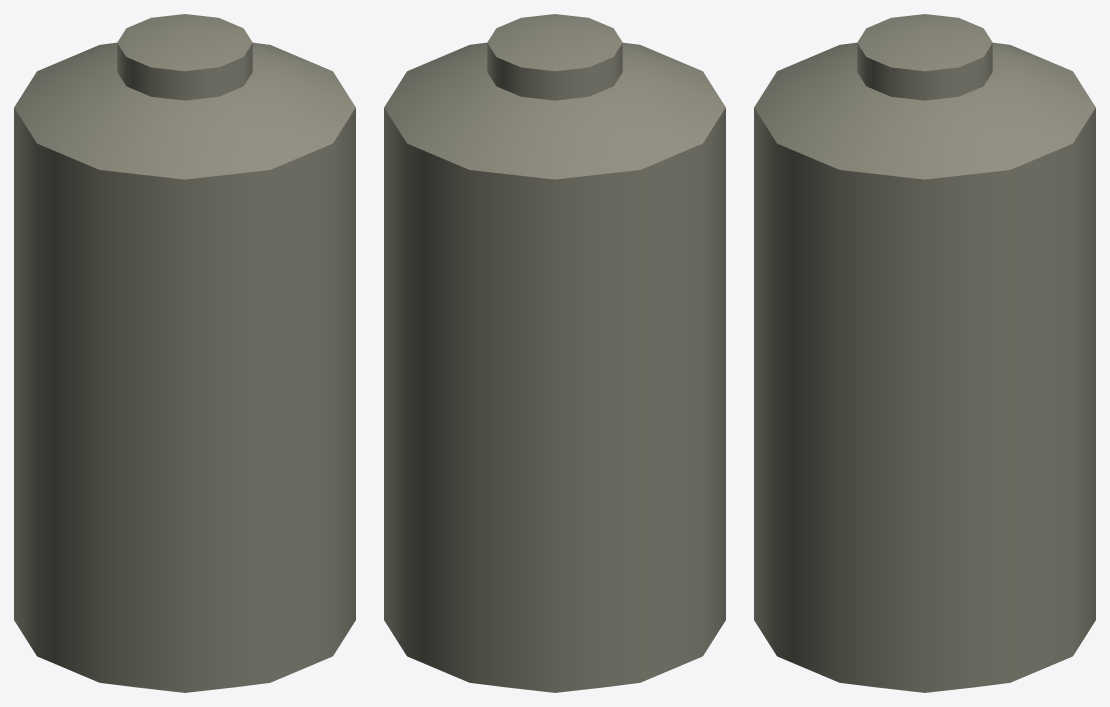
Rendered from pipeset2_tank.fbx.
3 views of the same model, side by side, from view 1: azimuth 30°, elevation 25°; view 2: azimuth 150°, elevation 25°; view 3: azimuth 270°, elevation 25° (orthographic).
Parts seen in each view (by area): view 1: pipeset2_tank; view 2: pipeset2_tank; view 3: pipeset2_tank.
Part boxes in pixels (x1,y1,x2,y2): pipeset2_tank: (14,14,355,692); pipeset2_tank: (384,14,725,692); pipeset2_tank: (754,14,1095,692).
Size of the model in its own units: 200 by 410 by 200.
